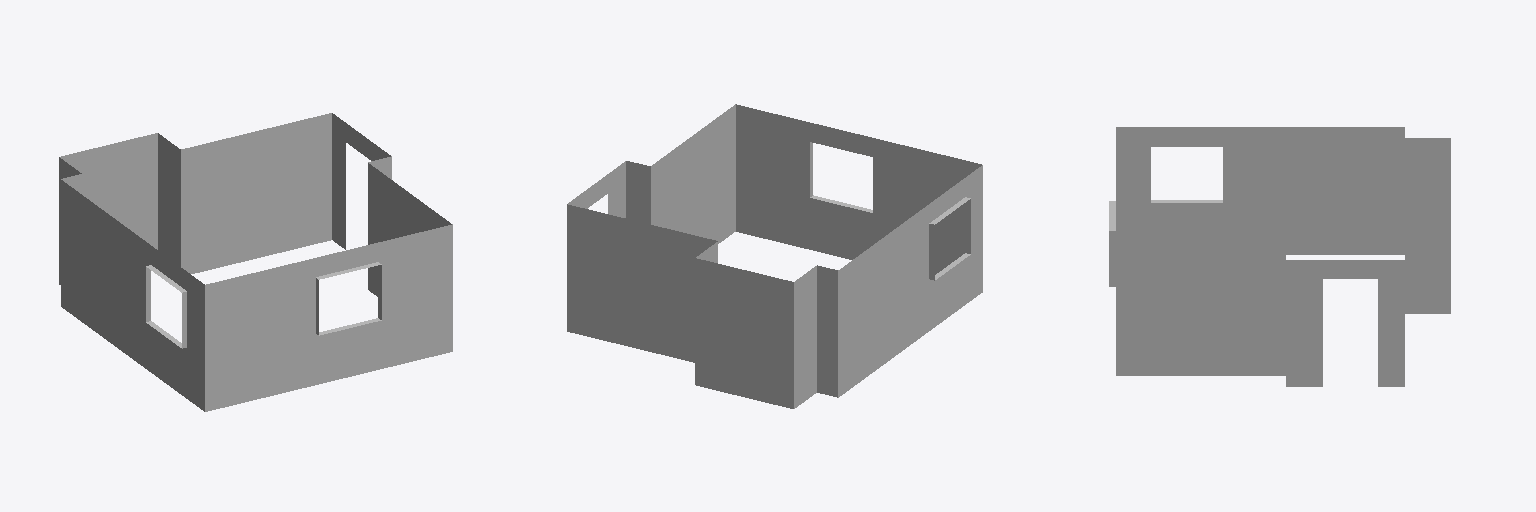
Rendered from wall-testing-again.obj.
The picture shows the model from 3 angles: view 1: azimuth 30°, elevation 25°; view 2: azimuth 150°, elevation 25°; view 3: azimuth 270°, elevation 25°; orthographic projection.
Visible parts, largest first — view 1: polySurface598 polySurface433 polySurface431 polySurface429 pPla; view 2: polySurface598 polySurface433 polySurface431 polySurface429 pPla; view 3: polySurface598 polySurface433 polySurface431 polySurface429 pPla.
Boxes of the visible parts, x1,y1,x2,y2 form: polySurface598 polySurface433 polySurface431 polySurface429 pPla: [59, 113, 452, 411]; polySurface598 polySurface433 polySurface431 polySurface429 pPla: [567, 104, 982, 408]; polySurface598 polySurface433 polySurface431 polySurface429 pPla: [1109, 127, 1450, 386].
Bounding box in the file's own units: 554 × 243 × 592.